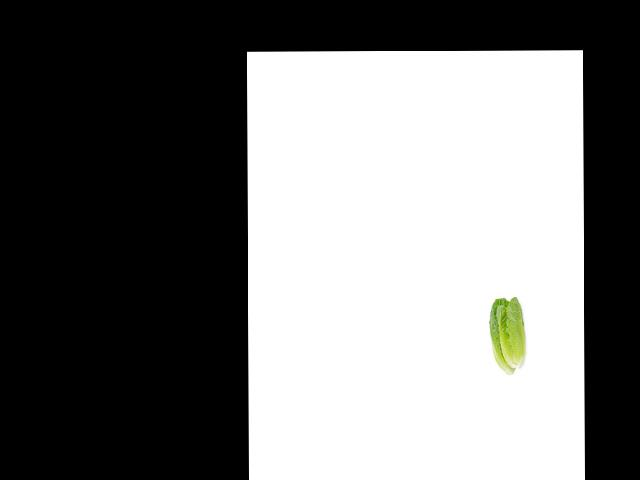lettuce: (489, 296, 530, 374)
